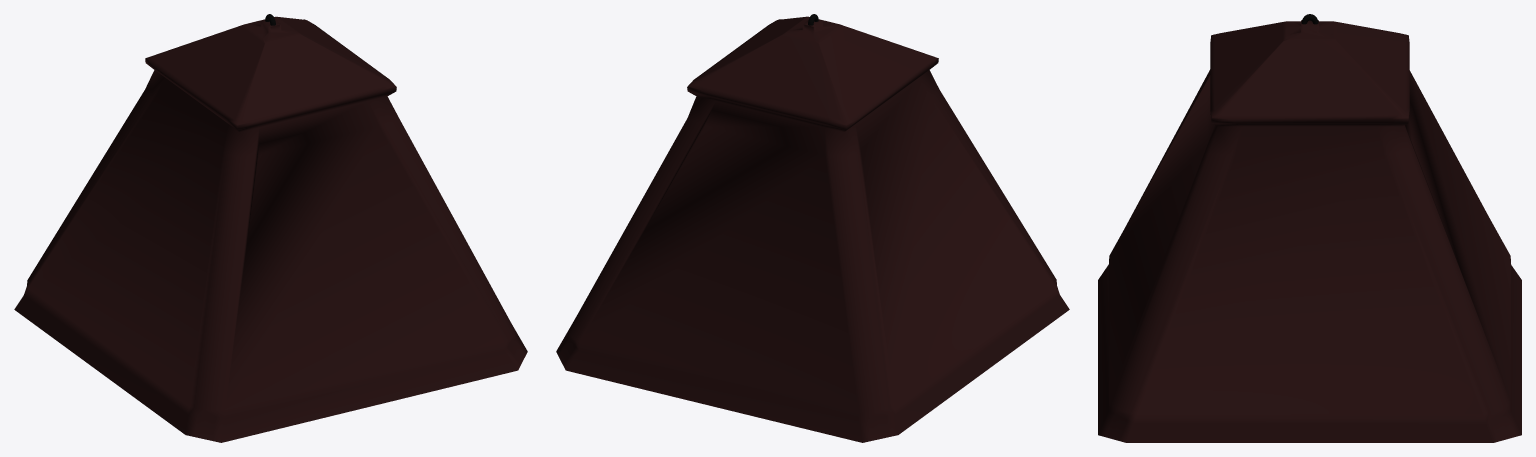
Rendered from Candelabro con vidrio.fbx.
The picture shows the model from 3 angles, left to right: view 1: azimuth 30°, elevation 25°; view 2: azimuth 150°, elevation 25°; view 3: azimuth 270°, elevation 25°; orthographic projection. The views are drawn at different scales.
Parts seen in each view (by area): view 1: polySurface2; view 2: polySurface2; view 3: polySurface2.
Part boxes in pixels (x1,y1,x2,y2): polySurface2: (14,16,527,442); polySurface2: (556,16,1069,442); polySurface2: (1098,20,1521,442).
Size of the model in its own units: 1 by 0.8934 by 1.
